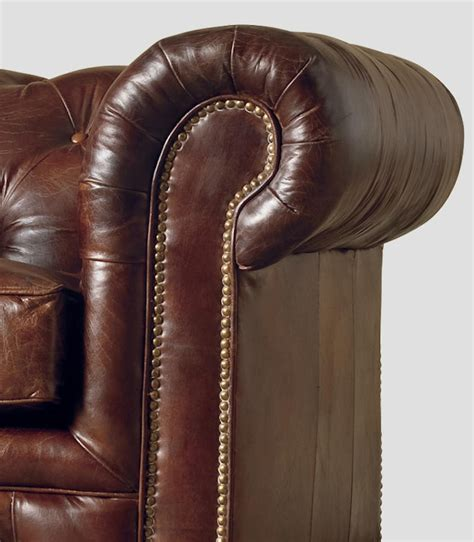cuero: (3, 23, 462, 542)
